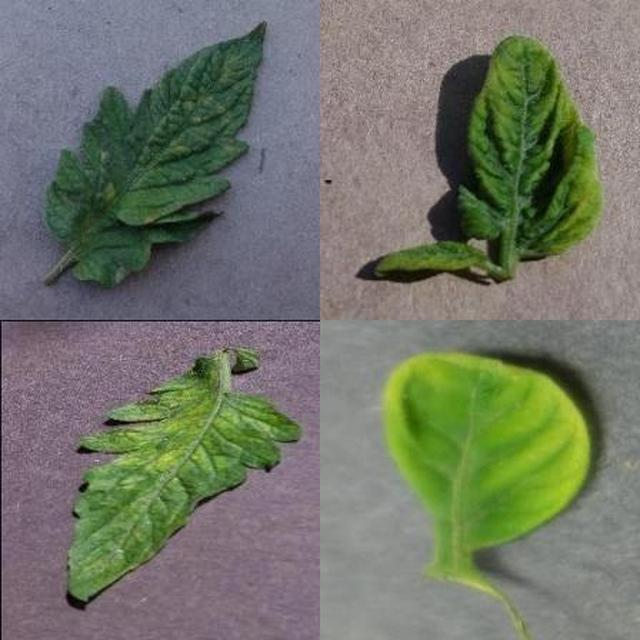Leaf Mold: (161, 53, 640, 640)
